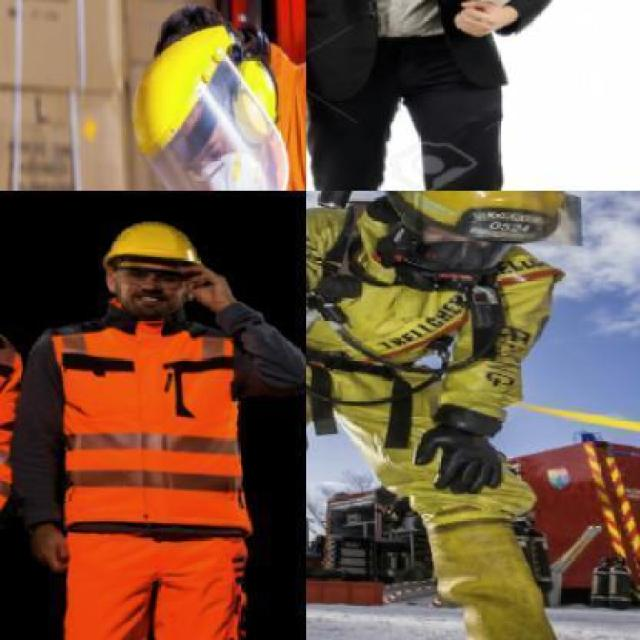Vest: (306, 191, 571, 514), (46, 306, 245, 531), (164, 26, 304, 189)
